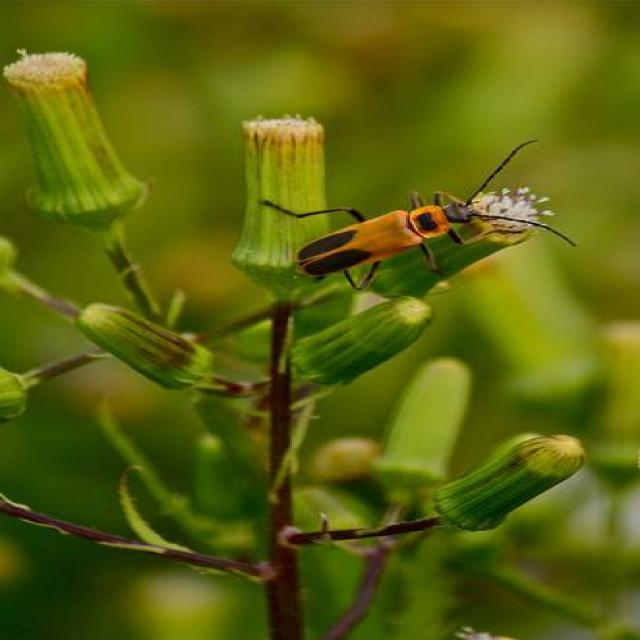BlisterBeetle-Adult-: (253, 136, 579, 281)
